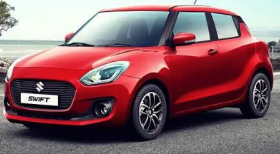car: (1, 5, 275, 145)
